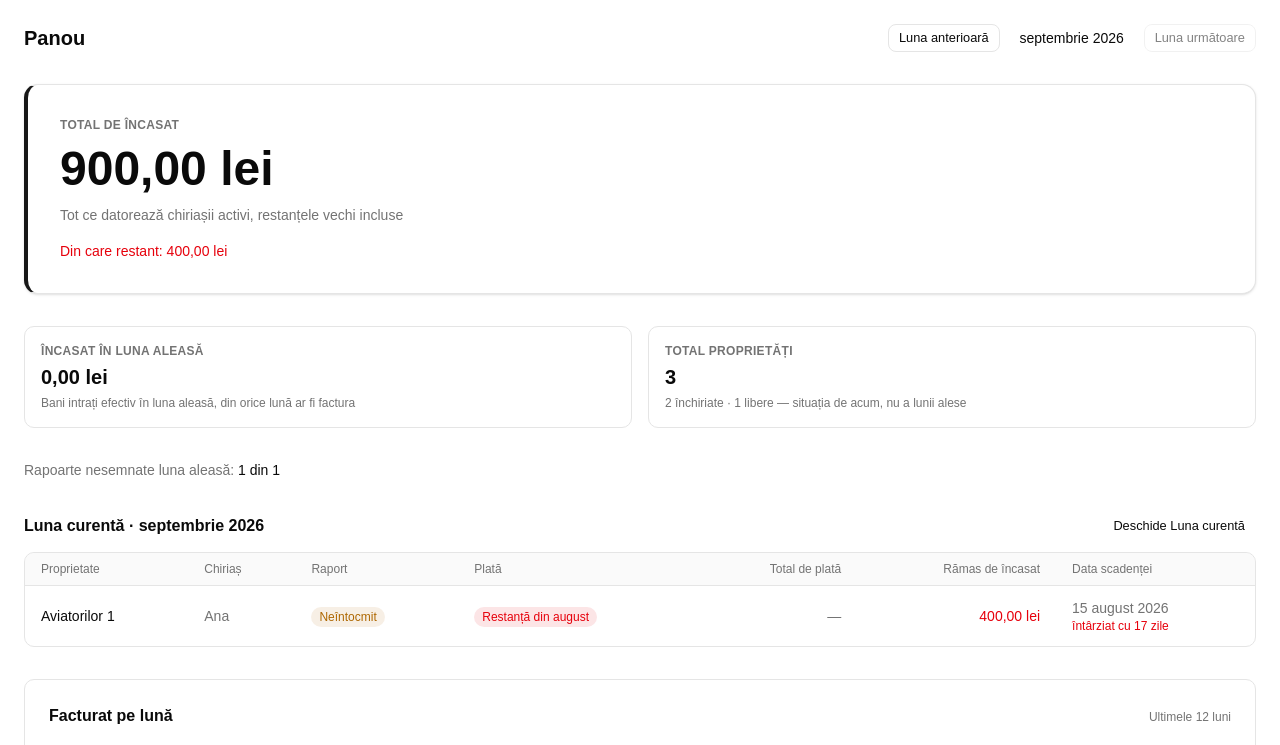
Test: DashboardPage — the selector scopes Expected/Overdue/section, not Properties › stepping back a month changes the section title and re-reads Expected, but Properties is unchanged
Expected: the text "3" is shown, x1=665 y1=363 x2=676 y2=391
Expected: the text "900,00 lei" is shown, x1=60 y1=145 x2=274 y2=193
Click the button "Luna anterioară".
click(944, 38)  # box x1=888 y1=24 x2=1000 y2=52
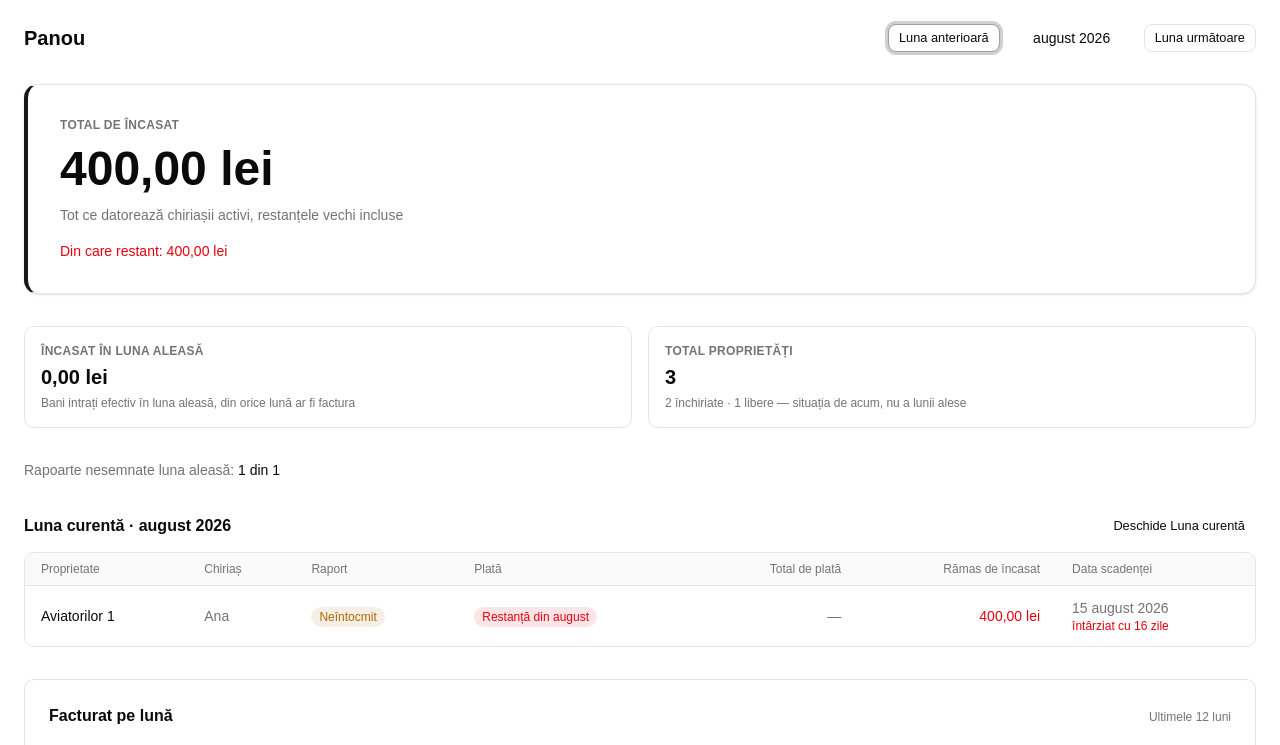
Expected: the text "3" is shown, x1=665 y1=363 x2=676 y2=391
Now the 1st text "400,00 lei" is shown, box x1=60 y1=145 x2=274 y2=193
